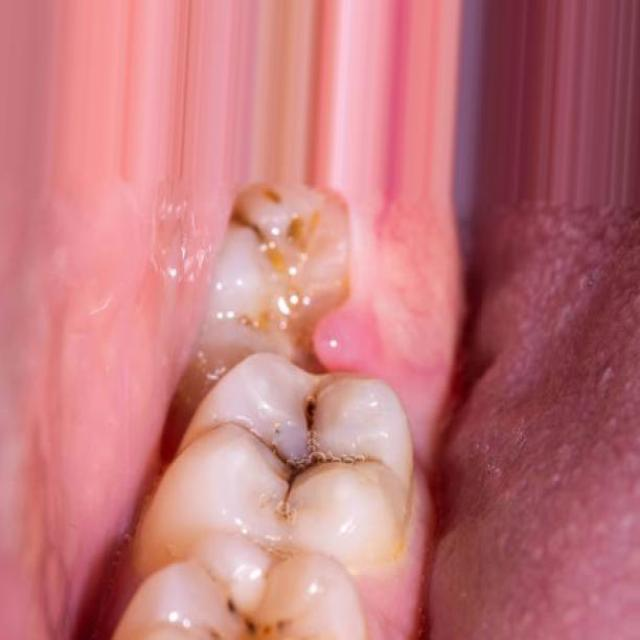caries: (211, 182, 358, 361), (234, 379, 379, 527), (192, 558, 310, 640)
